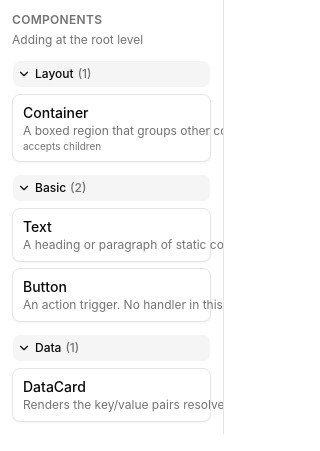
Test: collapsing categories › expands again on a second click
Click the button with test id "palette-category". click: click(112, 74)
box: [12,60,211,88]
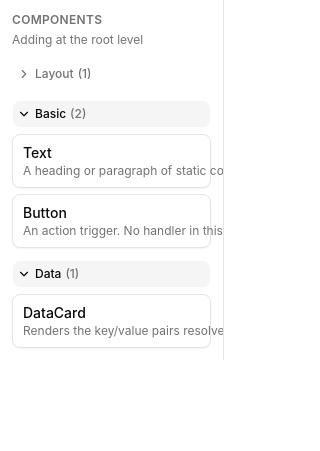
Click the button with test id "palette-category". click: click(112, 74)
box: [12,60,211,88]
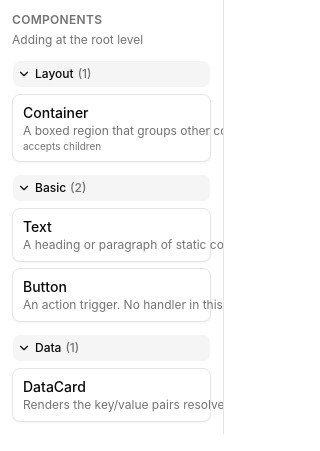
Check: the number of elements with test id "palette-group-items" is 3, box [12,94,211,162]; [12,208,211,322]; [12,368,211,422]
Check: the button with test id "palette-category" is expanded, box [12,60,211,88]
